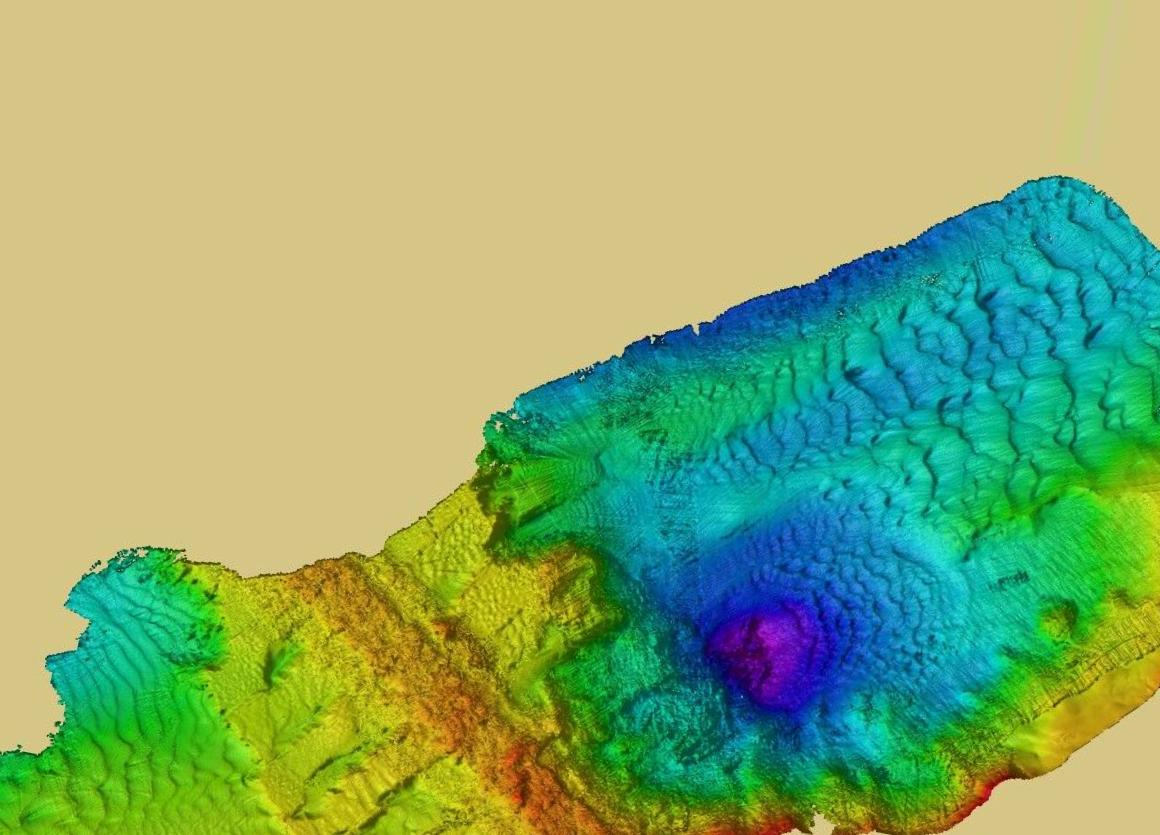Dune: (875, 303, 1102, 519), (681, 365, 907, 477), (70, 665, 216, 827)
Scarp: (727, 740, 1141, 835)
Scour pit: (694, 596, 836, 721)
Submerged dike: (296, 551, 545, 774)
